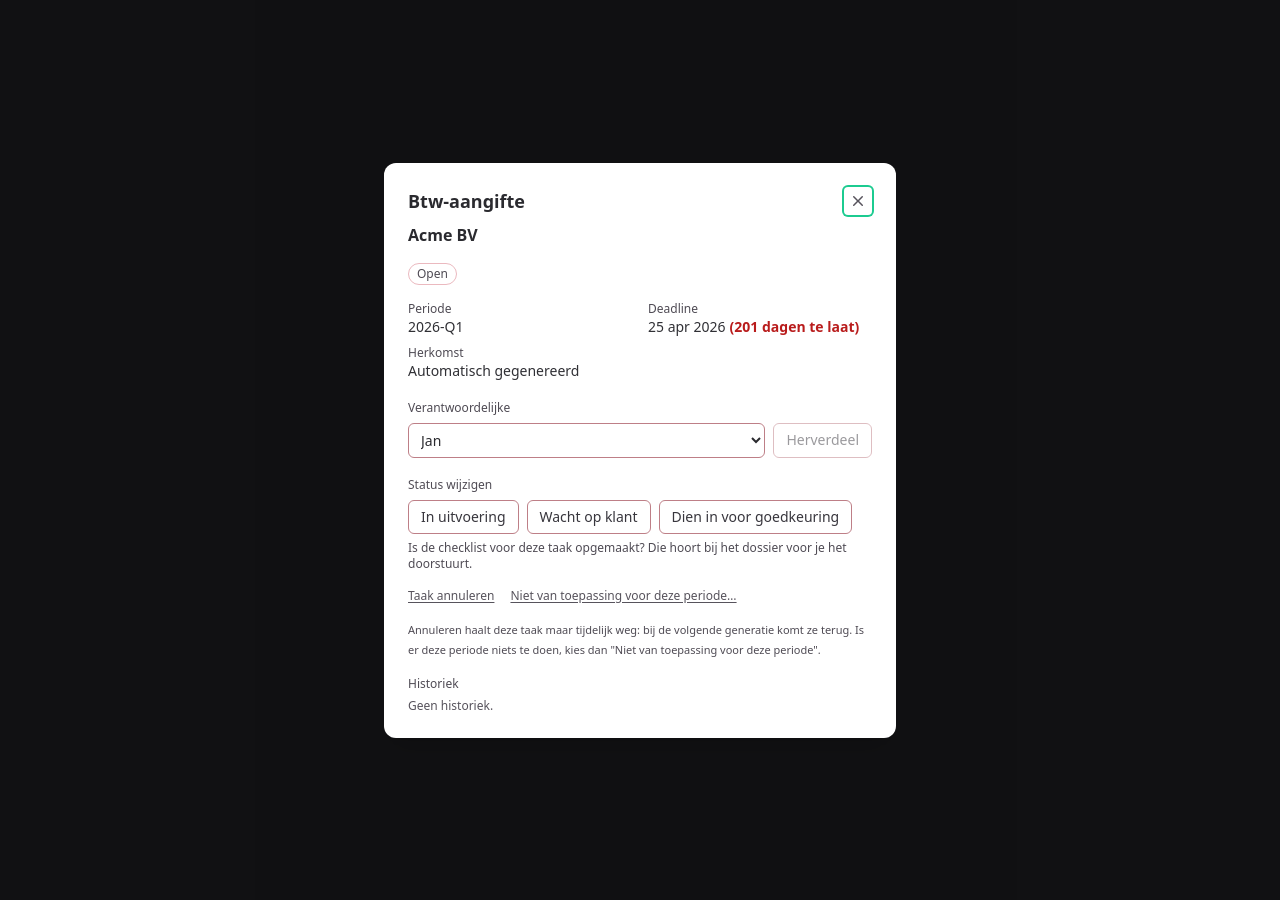
TaskDetailModal — niet van toepassing › zegt erbij dat er niets ingediend wordt en dat ze niet terugkomt
The image size is (1280, 900).
Click the button "Niet van toepassing voor deze periode…". click: (624, 596)
box: [510, 588, 737, 604]
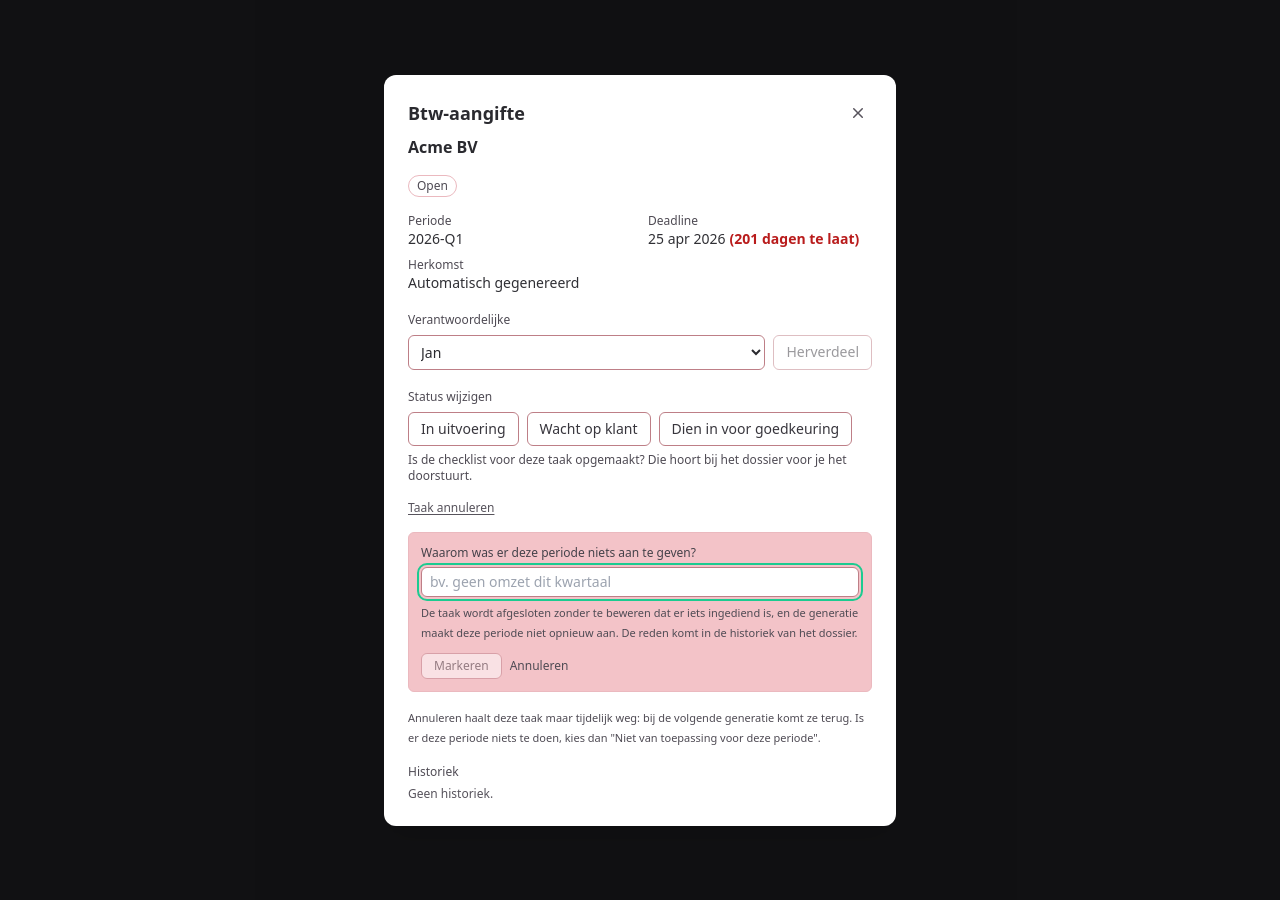
Now the text "niet opnieuw aan" is shown, box [421, 604, 858, 640]
